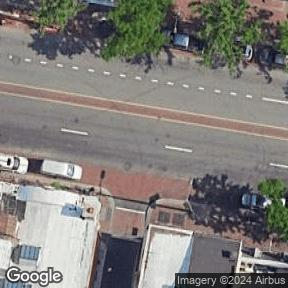vegetation: (258, 179, 288, 240), (41, 0, 83, 27), (278, 23, 288, 54)
